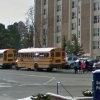Bus: (2, 44, 69, 75)
